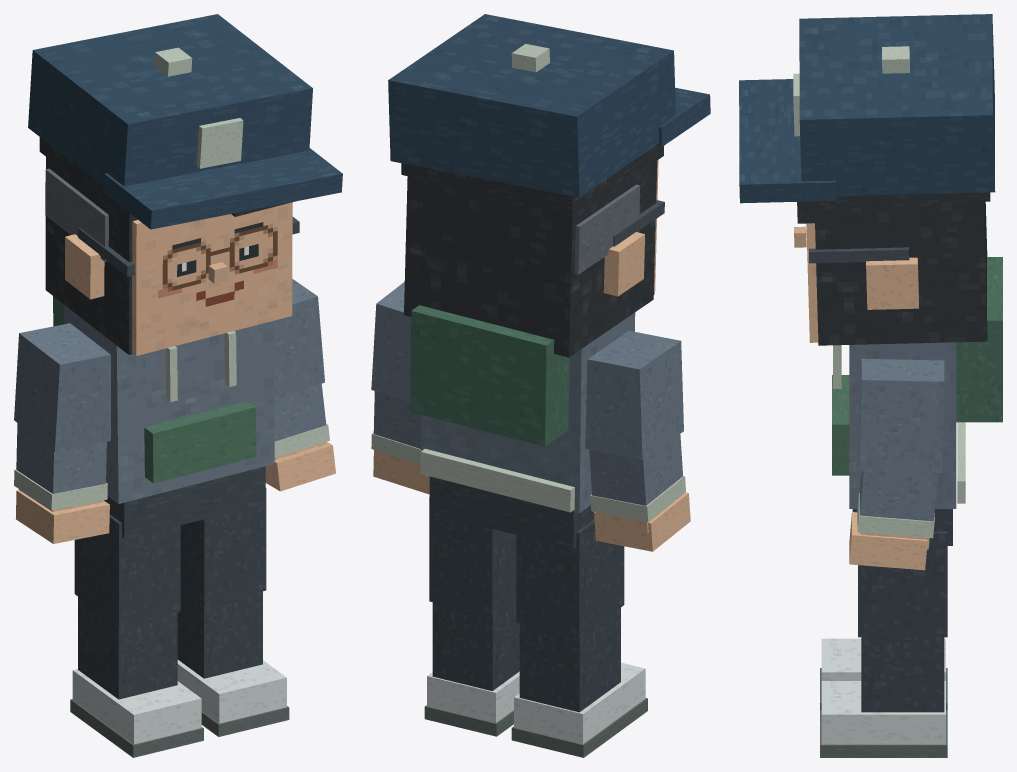
3 views of the same model, side by side, from view 1: azimuth 30°, elevation 25°; view 2: azimuth 150°, elevation 25°; view 3: azimuth 270°, elevation 25° (orthographic).
Visible parts, largest first — view 1: accessory:cap, object 2, object 6, object 15, object 25, outfit:hoodie, object 26, object 29, object 5, object 30, object 1, object 27 (+14 smaller); view 2: accessory:cap, object 5, outfit:hoodie, object 15, object 25, object 2, object 26, object 29, hair:undercut, object 30, object 1, object 27 (+13 smaller); view 3: accessory:cap, object 5, object 20, outfit:hoodie, object 29, object 30, object 2, object 31, object 23, object 8, object 22, hair:undercut (+6 smaller).
Boxes of the visible parts, left/top/right/bottom form: accessory:cap: left=28, top=14, right=342, bottom=229; object 2: left=64, top=305, right=274, bottom=503; object 6: left=132, top=202, right=292, bottom=355; object 15: left=14, top=323, right=110, bottom=451; object 25: left=74, top=514, right=180, bottom=626; outfit:hoodie: left=53, top=296, right=256, bottom=483; object 26: left=78, top=597, right=177, bottom=699; object 29: left=180, top=488, right=266, bottom=605; object 5: left=45, top=157, right=132, bottom=354; object 30: left=177, top=588, right=262, bottom=678; object 1: left=104, top=466, right=265, bottom=538; object 27: left=72, top=669, right=201, bottom=744; accessory:cap: left=388, top=14, right=710, bottom=197; object 5: left=404, top=161, right=657, bottom=357; outfit:hoodie: left=410, top=305, right=574, bottom=512; object 15: left=585, top=330, right=683, bottom=459; object 25: left=516, top=519, right=624, bottom=637; object 2: left=421, top=312, right=635, bottom=513; object 26: left=519, top=608, right=620, bottom=712; object 29: left=429, top=497, right=516, bottom=616; hair:undercut: left=401, top=145, right=663, bottom=274; object 30: left=432, top=599, right=519, bottom=690; object 1: left=429, top=476, right=594, bottom=548; object 27: left=514, top=662, right=645, bottom=743; accessory:cap: left=739, top=14, right=995, bottom=203; object 5: left=814, top=201, right=987, bottom=345; object 20: left=859, top=358, right=944, bottom=472; outfit:hoodie: left=832, top=257, right=1002, bottom=503; object 29: left=858, top=531, right=947, bottom=637; object 30: left=861, top=637, right=944, bottom=712; object 2: left=849, top=342, right=956, bottom=508; object 31: left=821, top=681, right=945, bottom=744; object 23: left=859, top=471, right=937, bottom=521; object 8: left=866, top=257, right=918, bottom=309; object 22: left=849, top=512, right=927, bottom=570; hair:undercut: left=797, top=192, right=990, bottom=223.
Bounding box in the file's own units: 0.9752 × 2.2 × 0.7875.
Materials: 14 (14 with a texture image).
